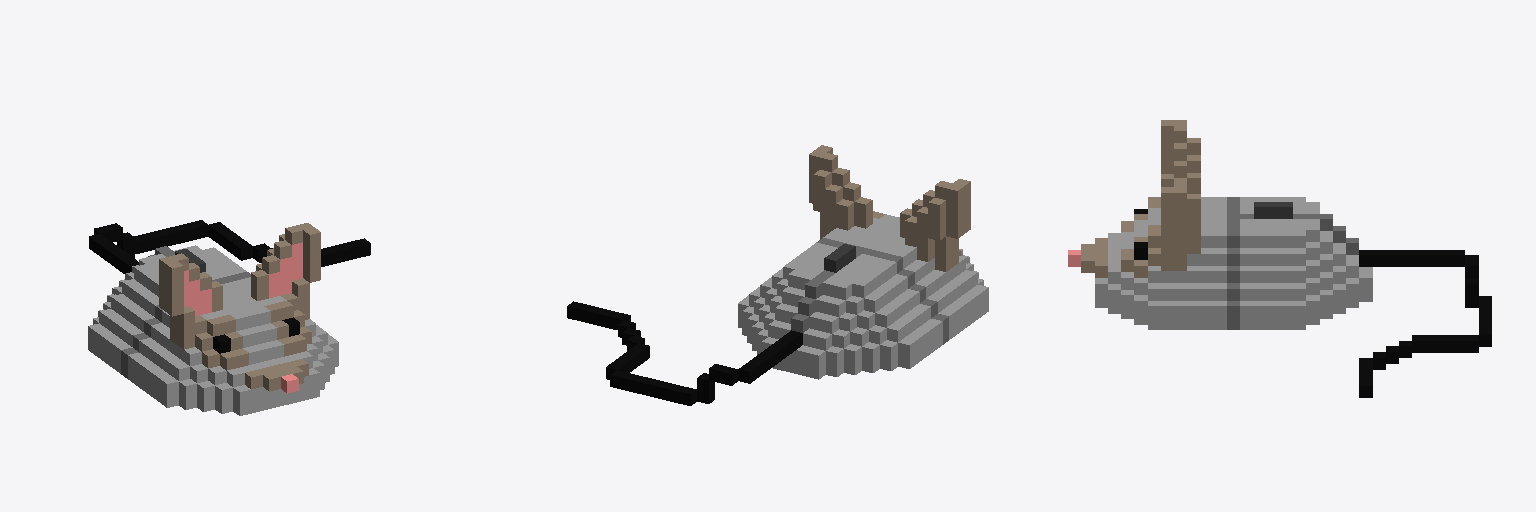
3 renders of one model, left to right at view 1: azimuth 30°, elevation 25°; view 2: azimuth 150°, elevation 25°; view 3: azimuth 270°, elevation 25°, orthographic.
Visible parts, largest first — view 1: object 1; view 2: object 1; view 3: object 1.
Boxes of the visible parts, x1=… form: object 1: x1=88, y1=220, x2=370, y2=415; object 1: x1=567, y1=145, x2=988, y2=405; object 1: x1=1068, y1=120, x2=1491, y2=397.
Size of the model in its own units: 2.7 by 1.1 by 3.2.
1 materials, 1 textured.